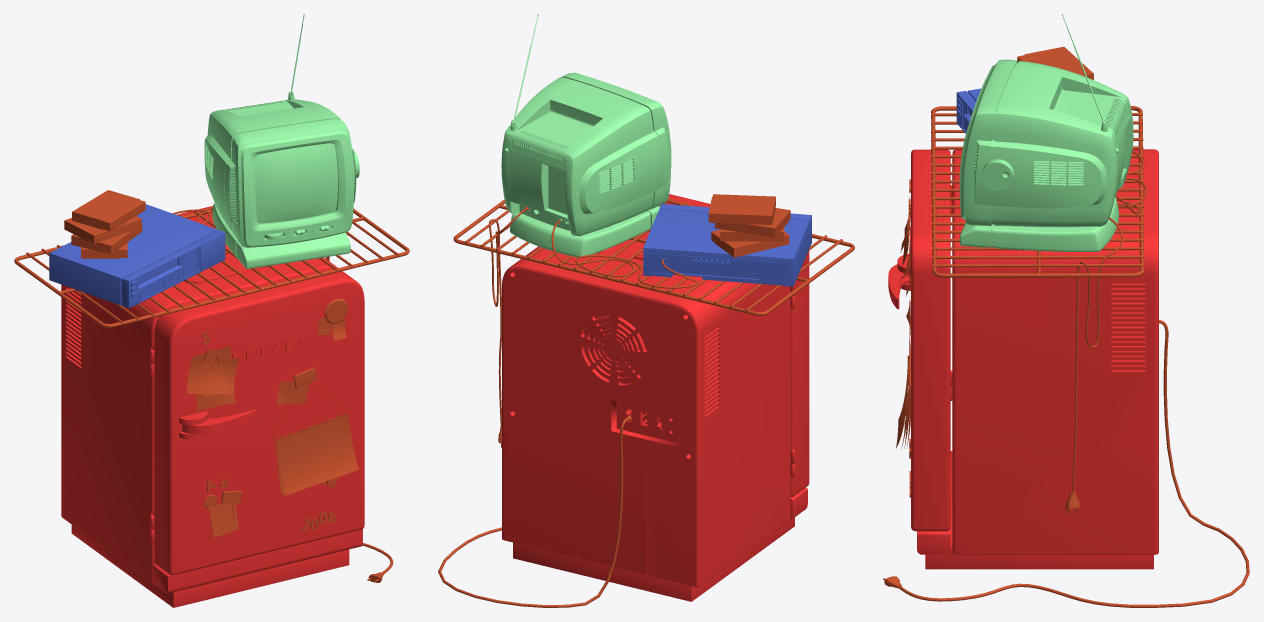
The model's file is FullSceneSubstance.fbx.
3 renders of one model, left to right at view 1: azimuth 30°, elevation 25°; view 2: azimuth 150°, elevation 25°; view 3: azimuth 270°, elevation 25°, orthographic. The views are drawn at different scales.
Parts seen in each view (by area): view 1: FridgeDoor_low, FridgeBody_low, TvBody_low, VhsBody_low, TvScreen_low, FridgeRack_low, FridgeCalendarPapers_low, FridgePapers_low, fridgeBottomStraight_low, FridgeBottomCurved_low, TvBottom_low, VhsFront_low (+8 smaller); view 2: FridgeBody_low, TvBody_low, VhsBody_low, TvSides_low, FridgeRack_low, FridgeDoor_low, fridgeBottomStraight_low, Wires_low, TvBottom_low, VhsBoxes2_low, VhsBoxes_low, VhsBoxes3_low (+1 smaller); view 3: FridgeBody_low, TvBody_low, FridgeDoor_low, TvSides_low, FridgeRack_low, Wires_low, TvBottom_low, fridgeBottomStraight_low, VhsBoxes2_low, TvSideButton_low, FridgeBottomCurved_low, FridgePull_low (+1 smaller).
Boxes of the visible parts, x1,y1,x2,y2 form: FridgeDoor_low: [154, 268, 364, 575]; FridgeBody_low: [61, 206, 338, 582]; TvBody_low: [207, 95, 354, 247]; VhsBody_low: [49, 204, 217, 305]; TvScreen_low: [255, 143, 337, 223]; FridgeRack_low: [14, 207, 409, 327]; FridgeCalendarPapers_low: [275, 414, 359, 495]; FridgePapers_low: [186, 318, 346, 538]; fridgeBottomStraight_low: [71, 525, 349, 607]; FridgeBottomCurved_low: [153, 529, 362, 593]; TvBottom_low: [212, 203, 350, 268]; VhsFront_low: [121, 229, 223, 308]; FridgeBody_low: [502, 231, 790, 587]; TvBody_low: [501, 72, 671, 236]; VhsBody_low: [643, 208, 809, 286]; TvSides_low: [579, 127, 668, 214]; FridgeRack_low: [453, 197, 854, 315]; FridgeDoor_low: [665, 194, 809, 496]; fridgeBottomStraight_low: [513, 517, 794, 601]; Wires_low: [438, 206, 698, 607]; TvBottom_low: [510, 206, 659, 257]; VhsBoxes2_low: [708, 197, 775, 224]; VhsBoxes_low: [714, 231, 789, 257]; VhsBoxes3_low: [715, 211, 788, 237]; FridgeBody_low: [952, 149, 1158, 554]; TvBody_low: [959, 59, 1133, 227]; FridgeDoor_low: [911, 149, 950, 531]; TvSides_low: [972, 140, 1107, 208]; FridgeRack_low: [931, 106, 1144, 277]; Wires_low: [898, 150, 1249, 607]; TvBottom_low: [959, 197, 1118, 251]; fridgeBottomStraight_low: [925, 451, 1153, 569]; VhsBoxes2_low: [1024, 46, 1093, 79]; TvSideButton_low: [982, 159, 1014, 190]; FridgeBottomCurved_low: [917, 528, 950, 554]; FridgePull_low: [888, 254, 910, 309].
Size of the model in its own units: 92.49 by 146 by 84.6.
